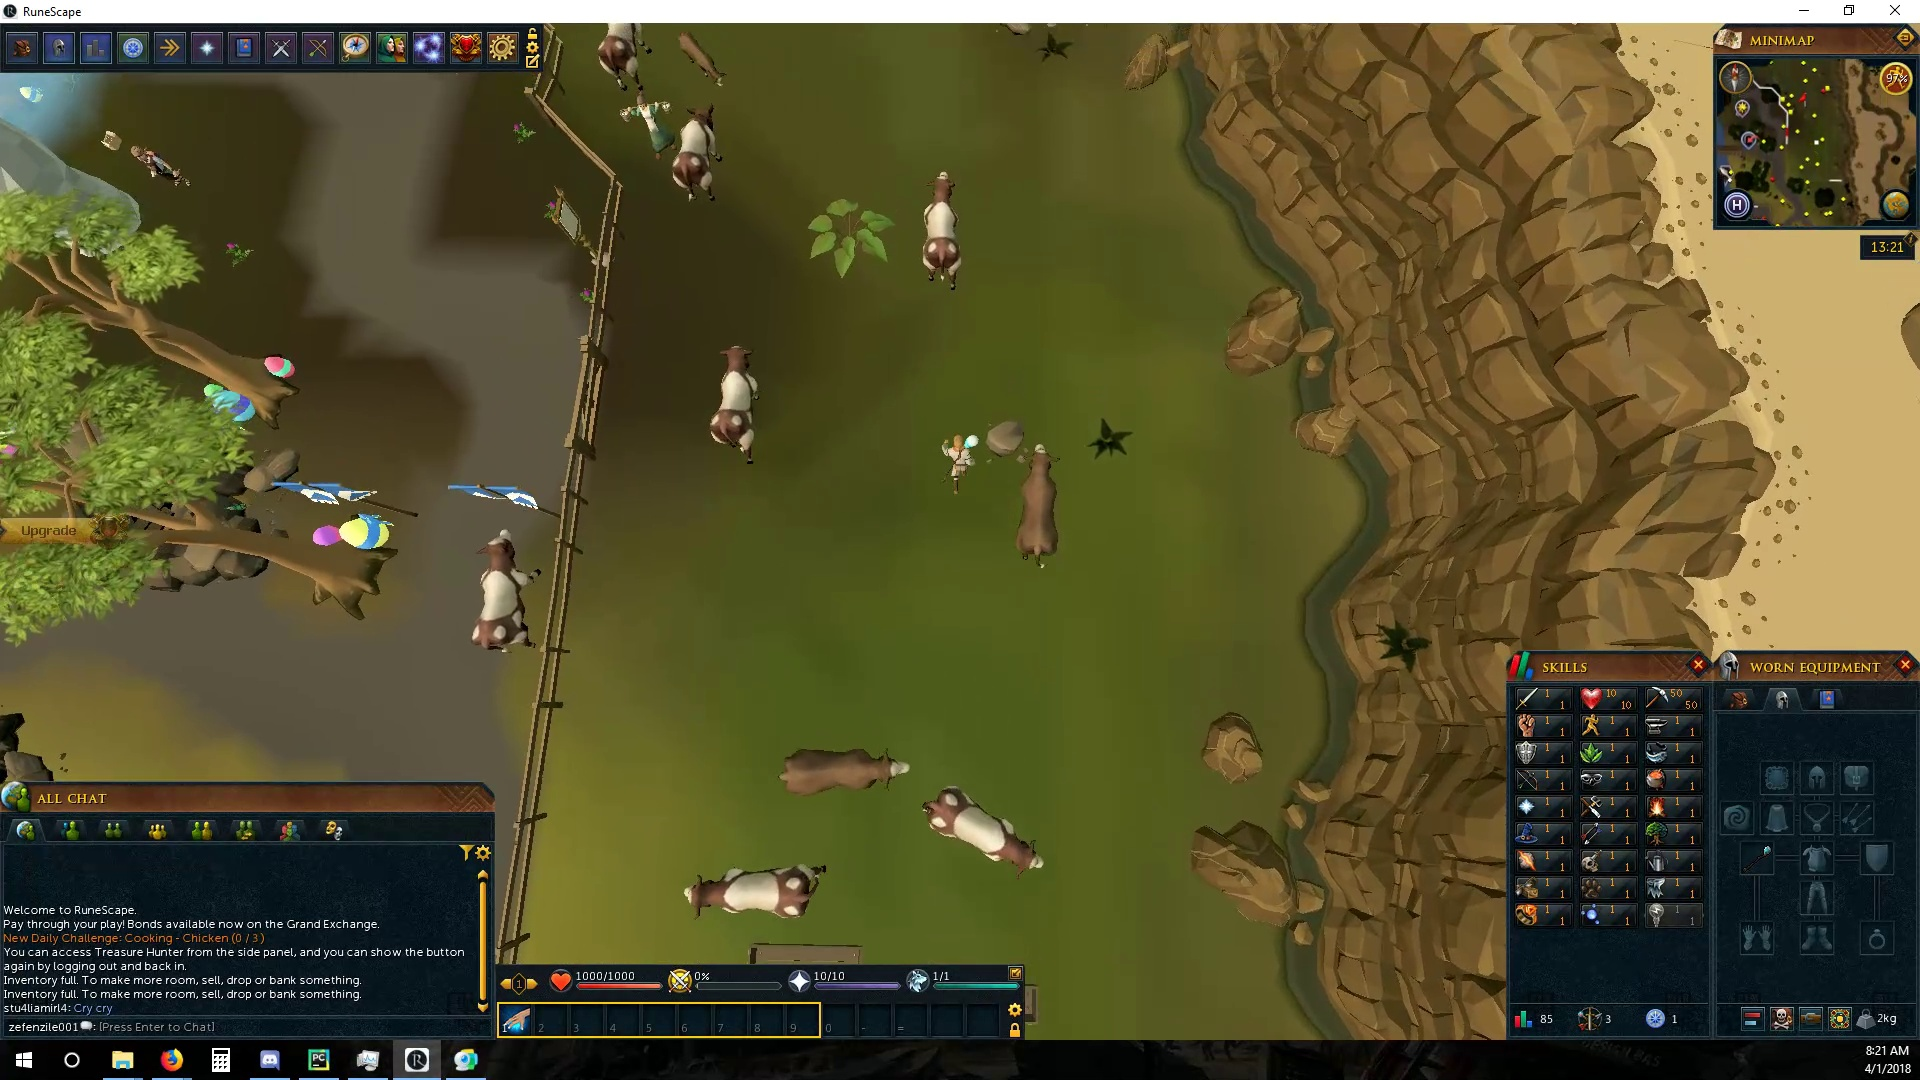cow: (919, 786, 1048, 878), (469, 526, 545, 654), (674, 862, 833, 922), (1007, 439, 1062, 574), (775, 744, 913, 796), (708, 343, 764, 468), (665, 105, 728, 203), (920, 167, 967, 297)
